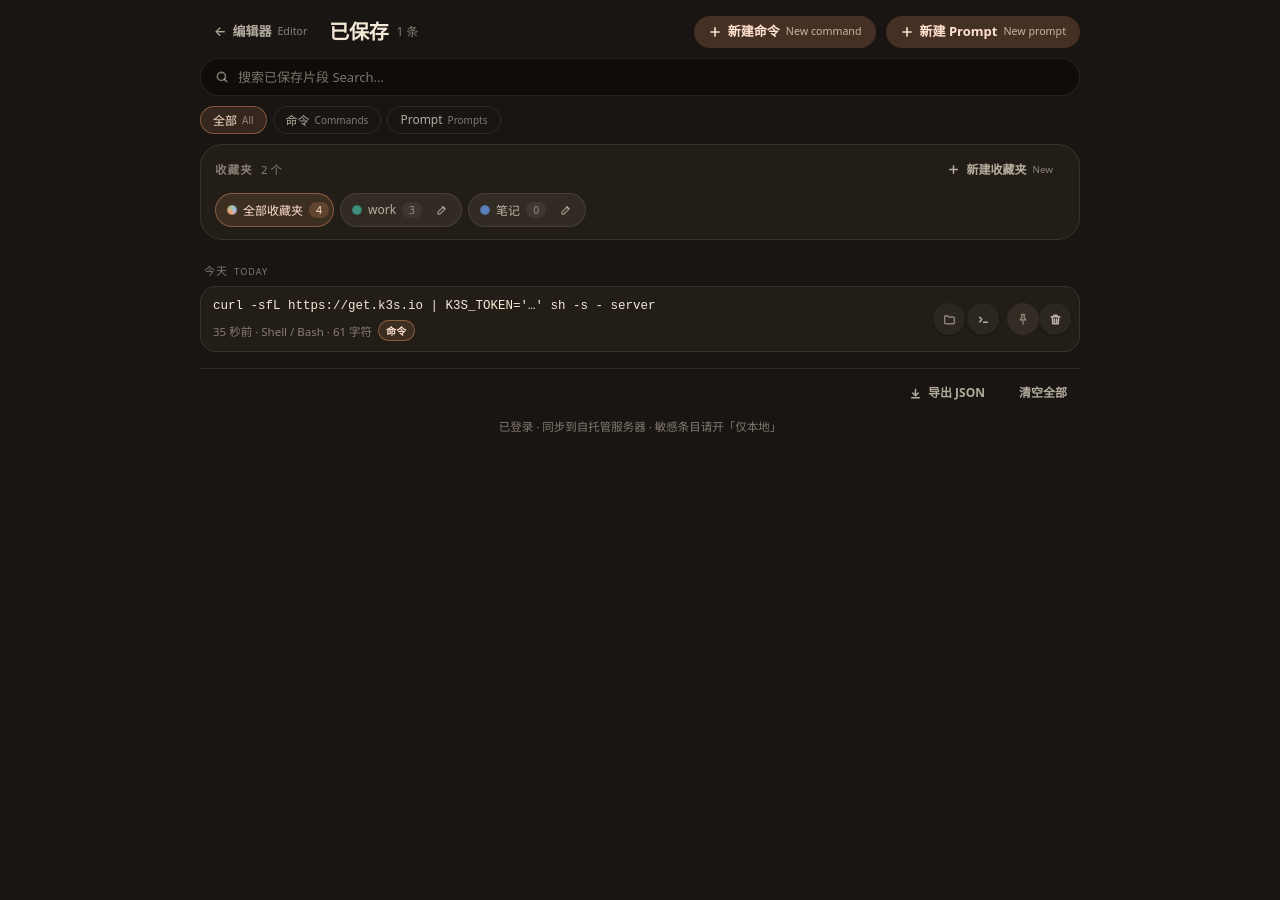
Test: SavedPage（收藏夹管理，云端模式） › 新建收藏夹：对话框里填名称与颜色后提交
Step 1. Click the button "新建收藏夹 New" → (1000, 170), box [935,157,1065,183]
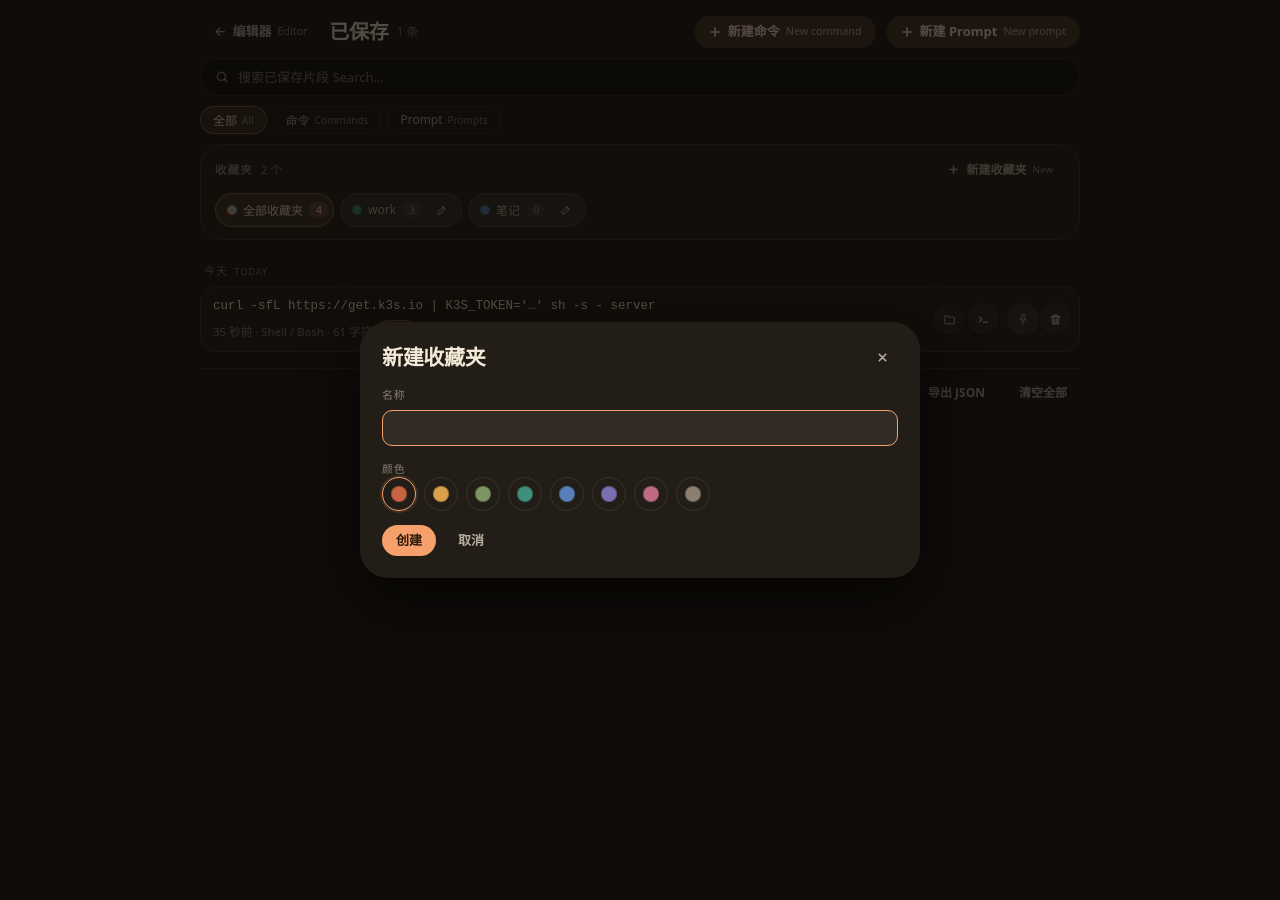
Step 2. Type "  临时  " into the field labelled "名称" → (640, 428), box [382,410,898,446]
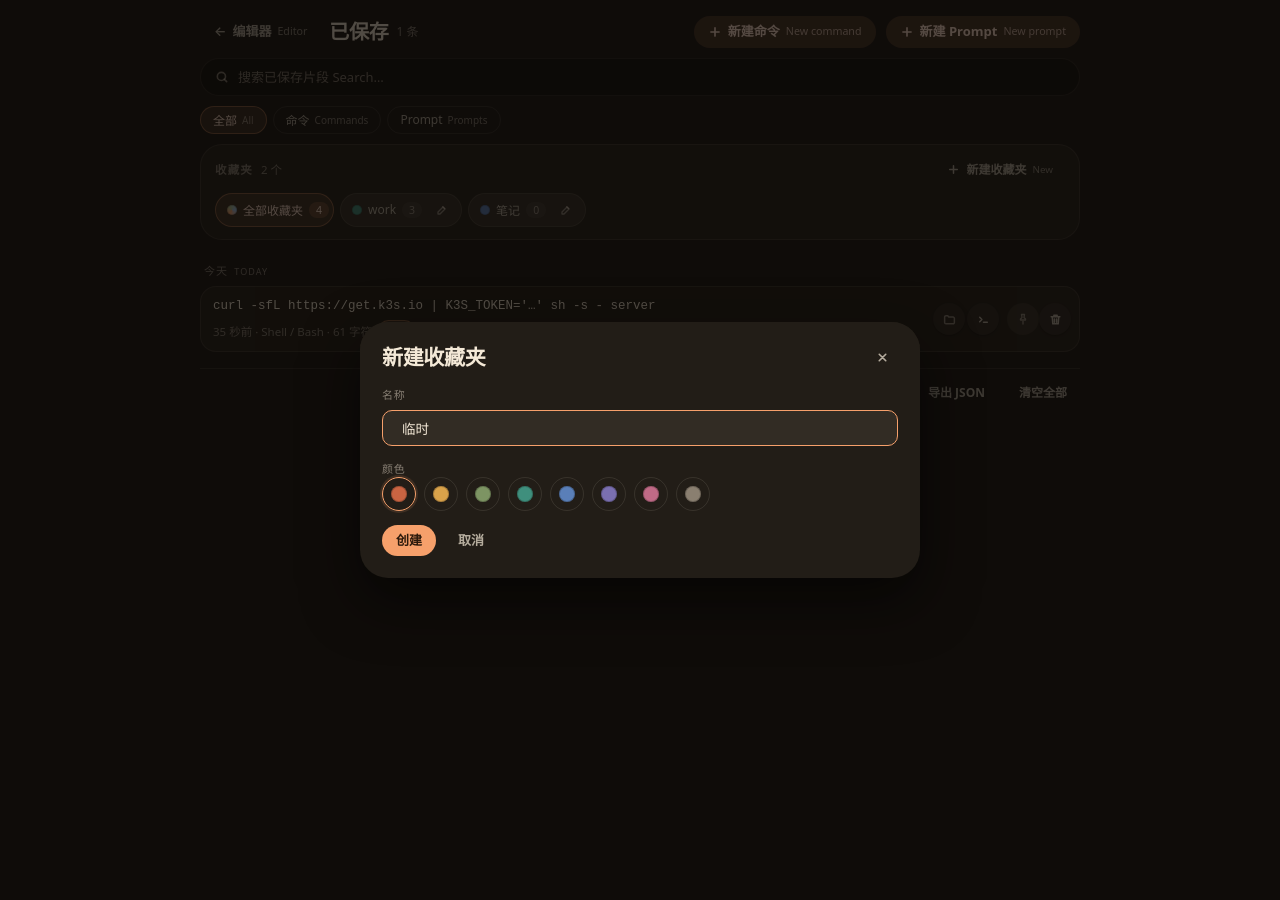
Step 3. Click the radio button named "鼠尾草" → (483, 494), box [466,477,500,511]
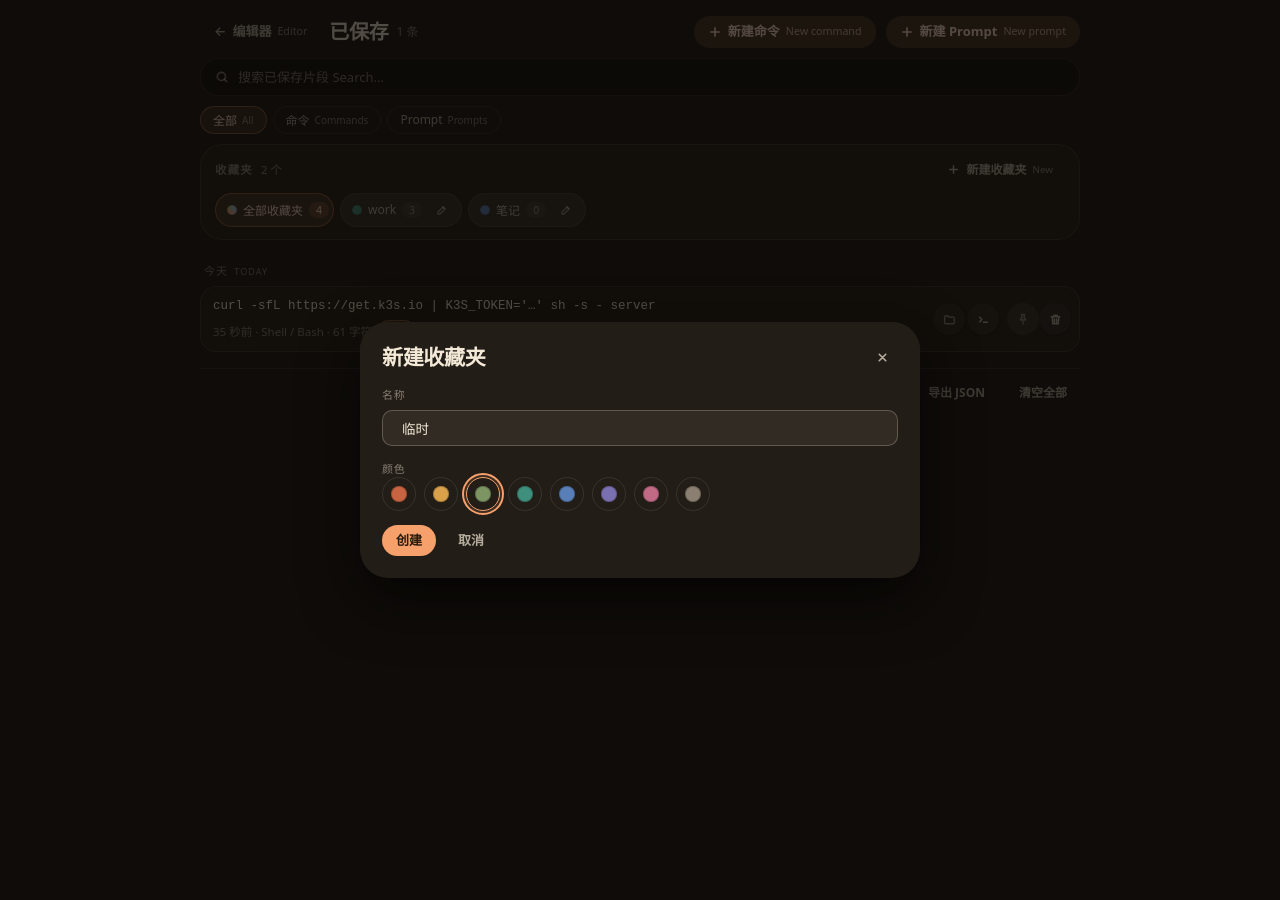
Step 4. Click the button "创建" → (409, 541), box [382,525,436,556]
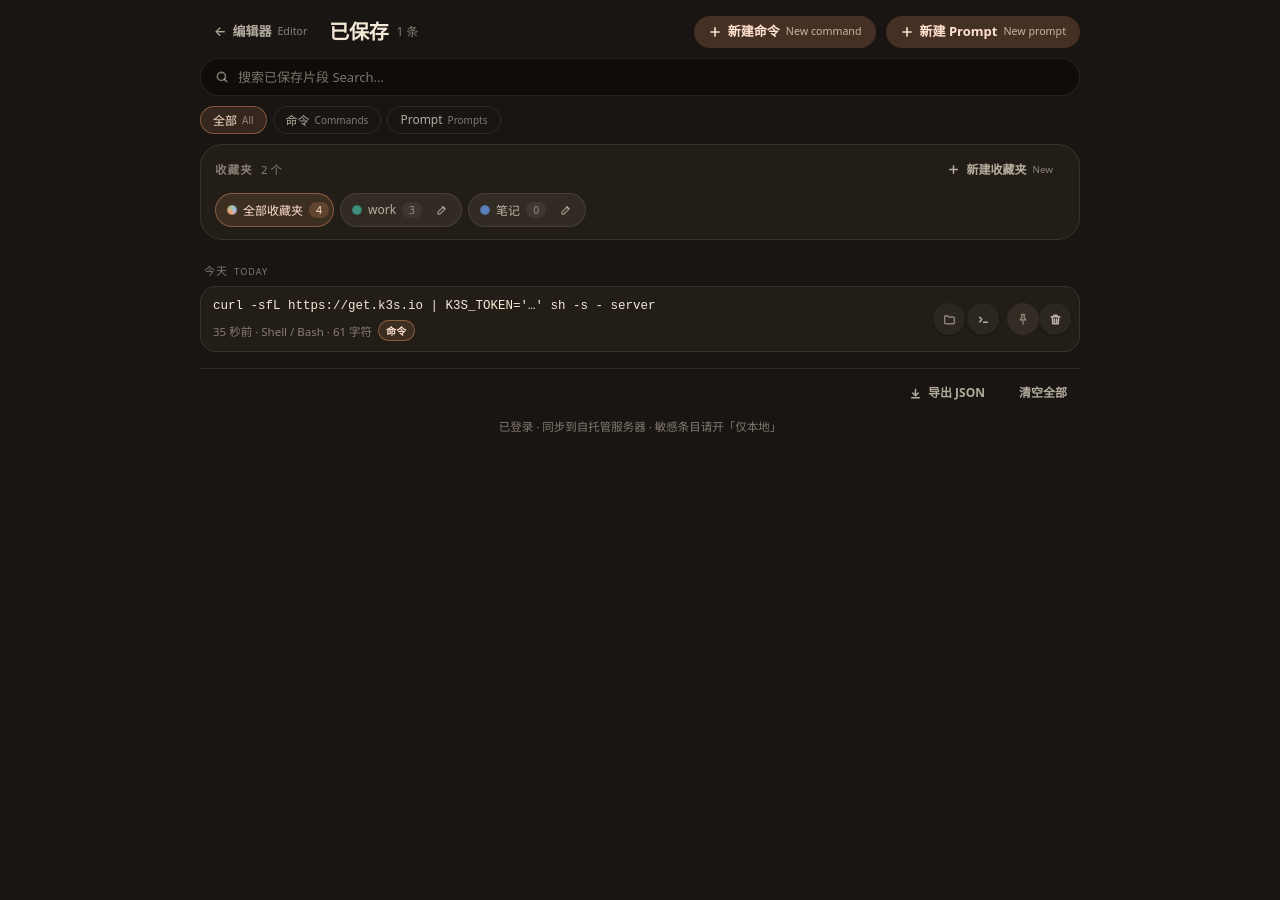
Now the dialog "新建收藏夹 名称 颜色 创建 取消" is gone
